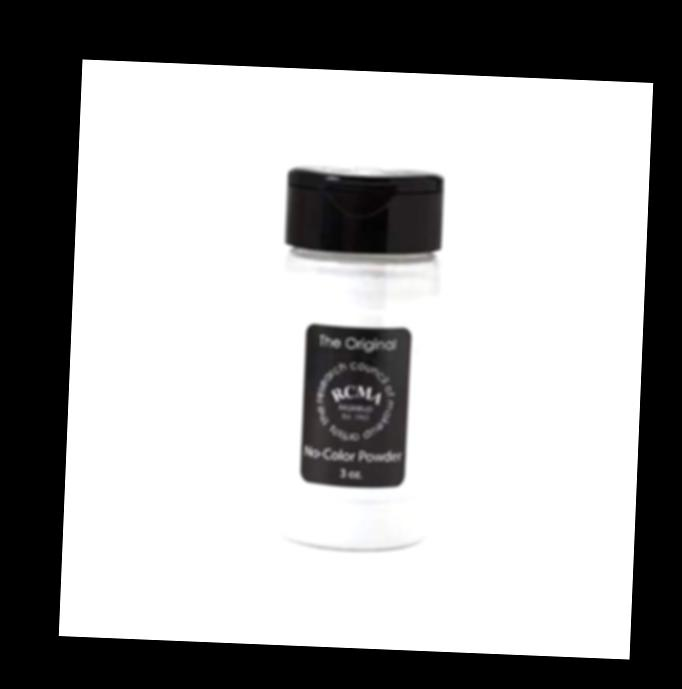cosmetic: (266, 165, 452, 549)
